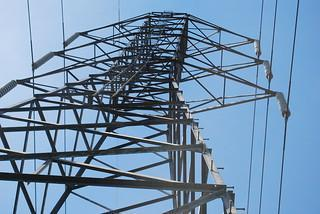power_tower: (0, 9, 291, 214)
